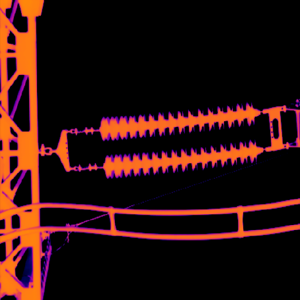insulator: (98, 101, 263, 178)
